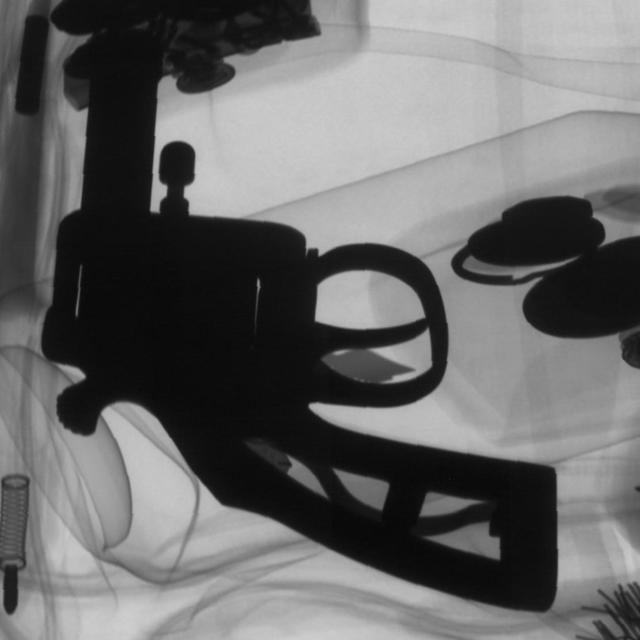gun: (35, 0, 565, 631)
